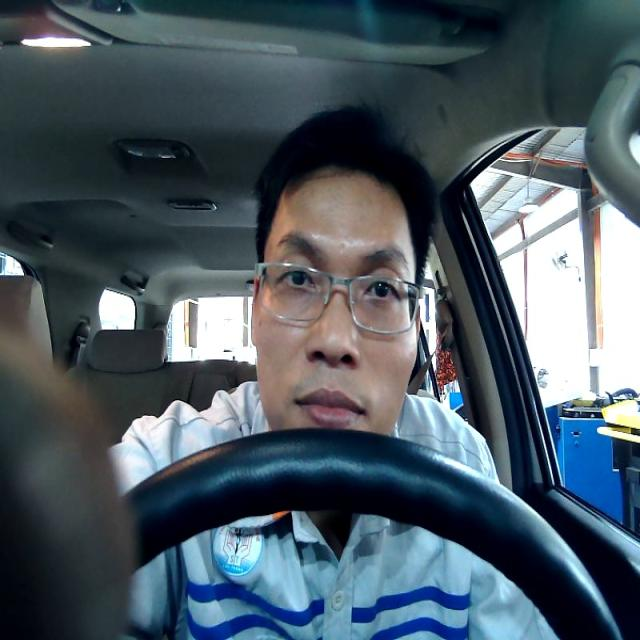focused: (250, 165, 418, 429)
